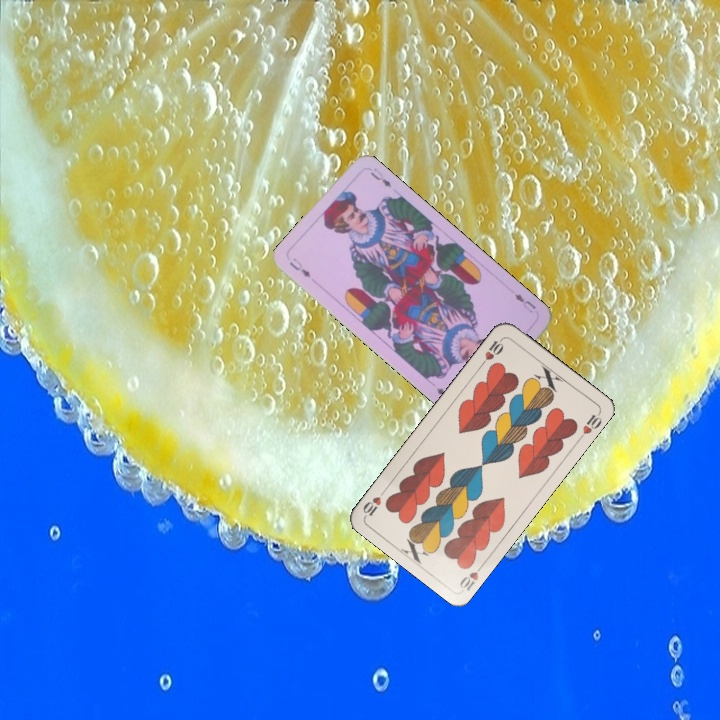EU: (510, 289, 539, 315), (285, 254, 313, 280)
H10: (455, 559, 487, 593), (476, 334, 506, 369)
